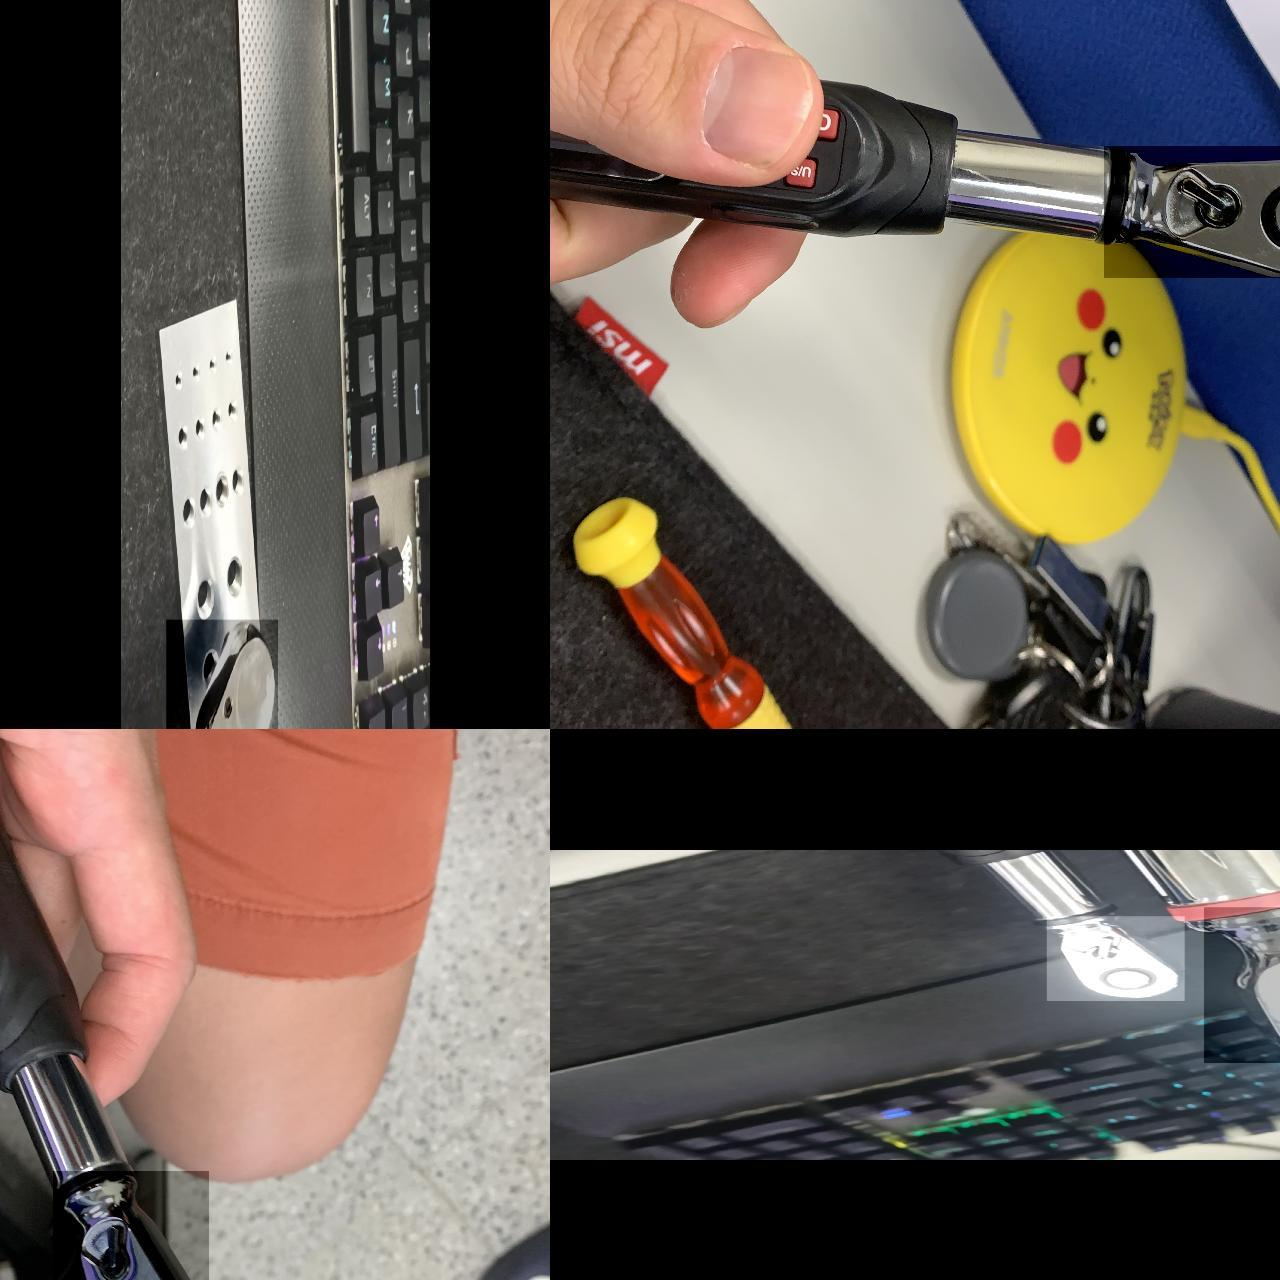Tool: (1103, 147, 1280, 278), (52, 1171, 207, 1280), (165, 619, 277, 729), (1203, 906, 1280, 1063), (1046, 917, 1184, 1001)
